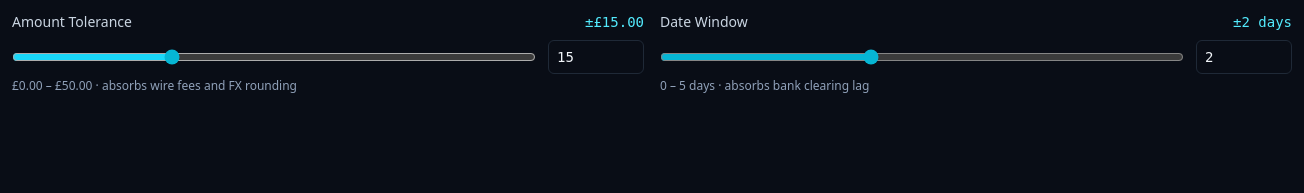
Test: ToleranceControls › cannot be applied while the effect is still being calculated
Replace the text in the number field named "Amount tolerance, exact value" with "20" at (596,57), box x1=548 y1=40 x2=644 y2=74
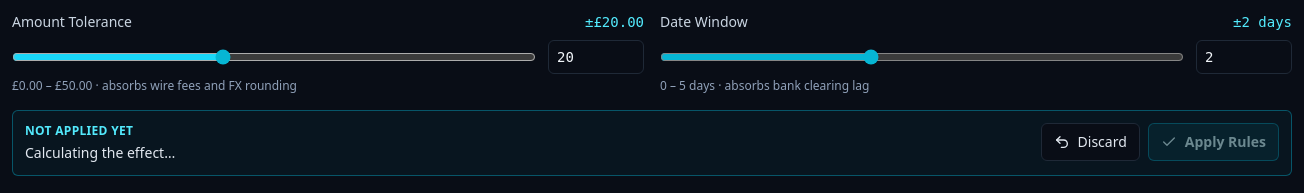
Expected: the button "Apply Rules" is disabled, x1=1148 y1=123 x2=1279 y2=161
